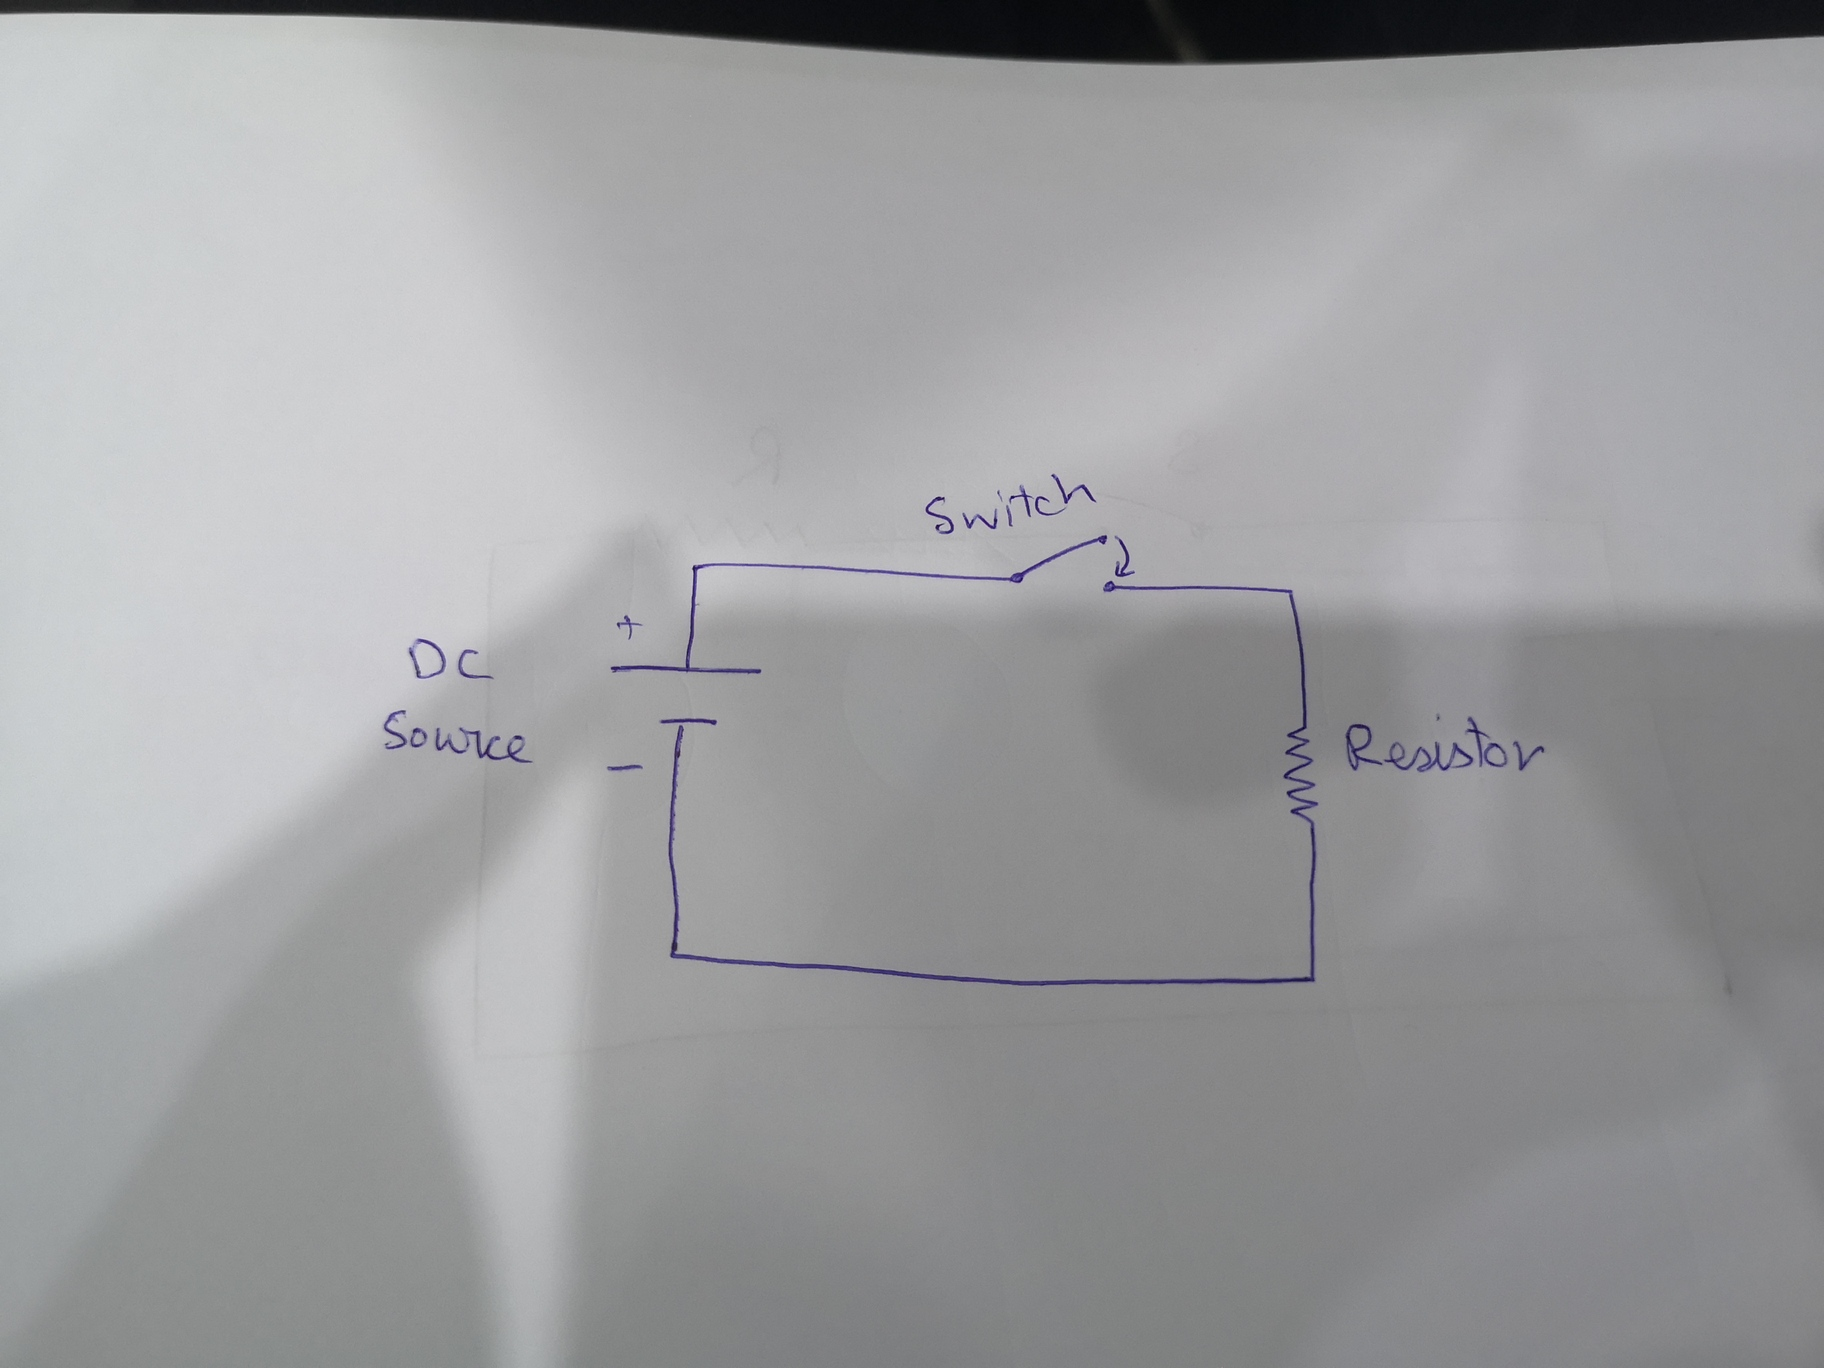junction: (1265, 576, 1307, 614), (1294, 961, 1327, 994), (661, 938, 694, 970), (684, 556, 709, 578)
resistor: (1280, 716, 1321, 833)
switch: (1004, 524, 1140, 599)
text: (1340, 708, 1551, 782), (916, 467, 1102, 537), (375, 706, 540, 773), (401, 637, 498, 685)
voltage.dc: (603, 657, 781, 734)
